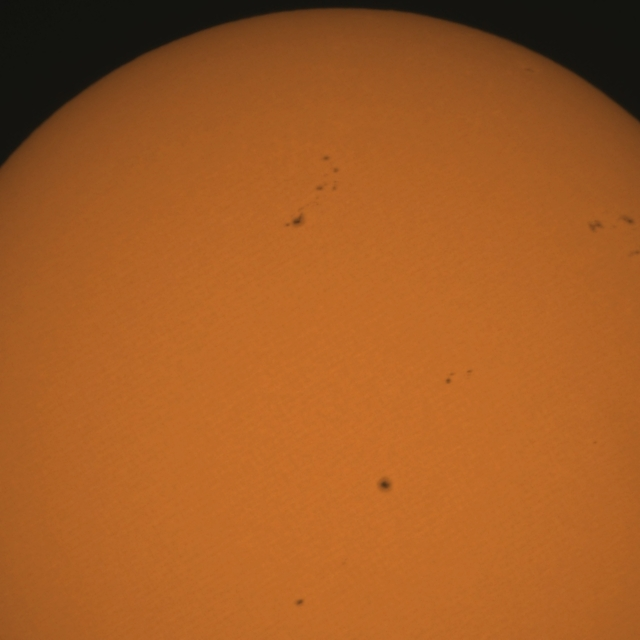sunspot: (586, 213, 636, 234), (314, 162, 340, 195), (443, 368, 474, 386), (284, 207, 306, 229), (376, 476, 394, 494), (586, 218, 604, 234), (444, 371, 456, 385), (626, 248, 640, 259), (294, 598, 305, 608), (523, 66, 535, 74), (321, 154, 331, 162), (592, 439, 598, 446)
